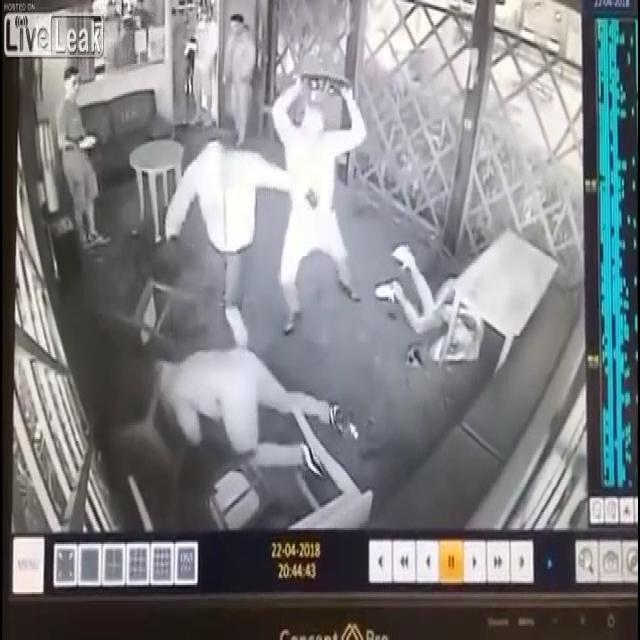fight: (156, 80, 375, 311)
